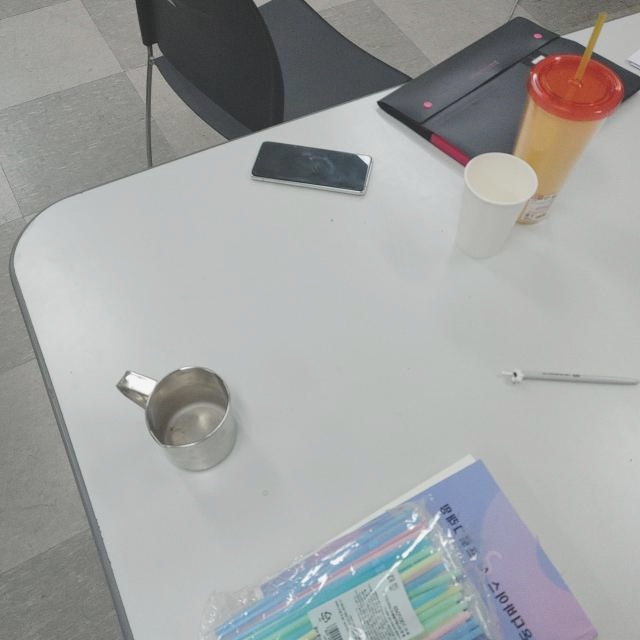cup: (115, 363, 239, 473)
phone: (251, 141, 374, 197)
